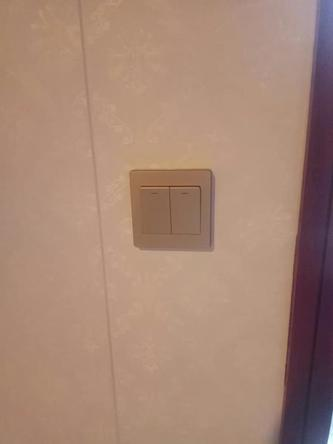switch: (163, 183, 205, 240), (137, 182, 176, 238)
